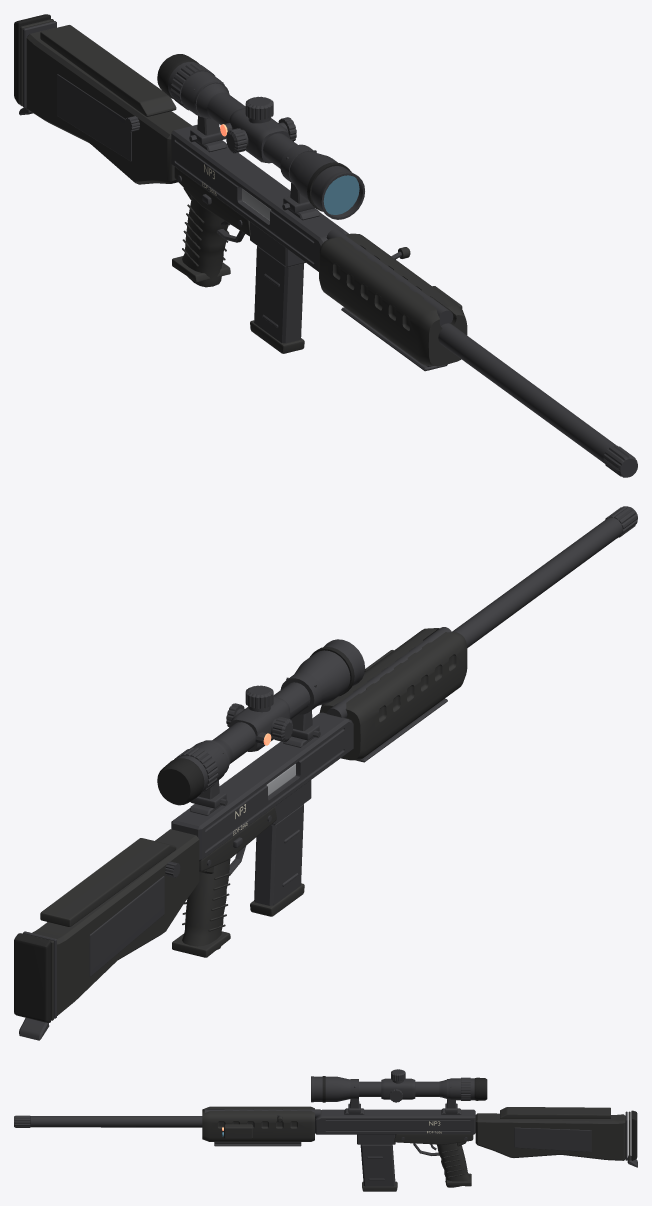
The picture shows the model from 3 angles, top to bottom: view 1: azimuth 30°, elevation 25°; view 2: azimuth 150°, elevation 25°; view 3: azimuth 270°, elevation 25°; orthographic projection. The views are drawn at different scales.
Parts seen in each view (by area): view 1: Body; view 2: Body; view 3: Body, opt_laser.
Part boxes in pixels (bbox=[...]): Body: bbox=[14, 14, 637, 477]; Body: bbox=[14, 506, 637, 1040]; Body: bbox=[14, 1069, 637, 1191]; opt_laser: bbox=[222, 1124, 252, 1138].
Size of the model in its own units: 0.081 by 0.268 by 1.29.
